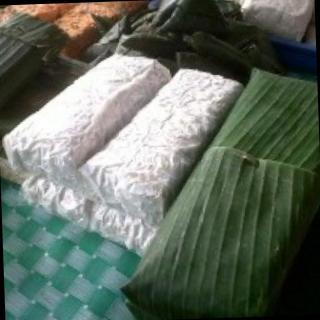Tempe: (1, 48, 249, 223)
